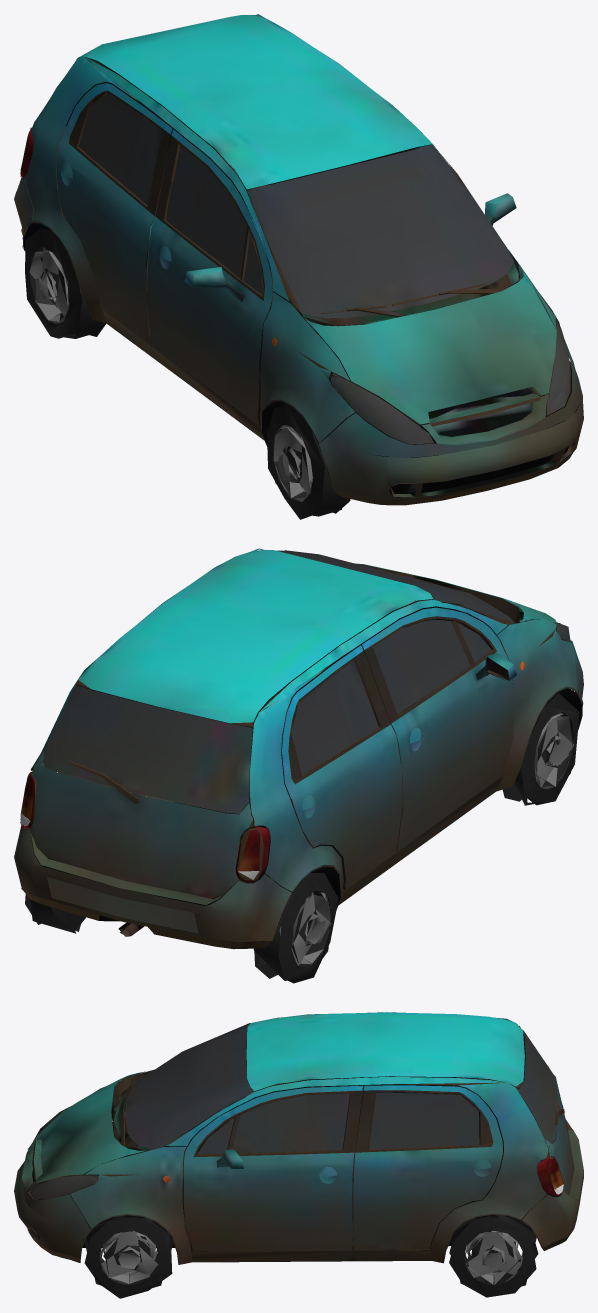
The model's file is pack-compact-L3.glb.
3 views of the same model, one above another, from view 1: azimuth 30°, elevation 25°; view 2: azimuth 150°, elevation 25°; view 3: azimuth 270°, elevation 25° (orthographic). The views are drawn at different scales.
Visible parts, largest first — view 1: body, wheel-front-left, wheel-back-left, wheel-back-left.1, wheel-front-left.1; view 2: body, wheel-back-left, wheel-front-left, wheel-front-left.1, wheel-back-left.1, wheel-back-right; view 3: body, wheel-back-right, wheel-front-right, wheel-front-right.1, wheel-back-right.1.
Part boxes in pixels (x1,y1,x2,y2): body: (14, 14, 583, 505); wheel-front-left: (267, 404, 350, 519); wheel-back-left: (25, 228, 105, 338); wheel-back-left.1: (29, 247, 81, 323); wheel-front-left.1: (273, 425, 312, 501); body: (14, 548, 583, 949); wheel-back-left: (253, 872, 338, 983); wheel-front-left: (502, 693, 579, 805); wheel-front-left.1: (534, 713, 573, 788); wheel-back-left.1: (279, 892, 331, 965); wheel-back-right: (25, 894, 85, 933); body: (14, 1012, 583, 1264); wheel-back-right: (449, 1215, 538, 1297); wheel-front-right: (84, 1216, 173, 1298); wheel-front-right.1: (99, 1231, 158, 1284); wheel-back-right.1: (465, 1230, 522, 1284).
Size of the model in its own units: 1.61 by 1.36 by 3.26.
Materials: 3 (1 with a texture image).
